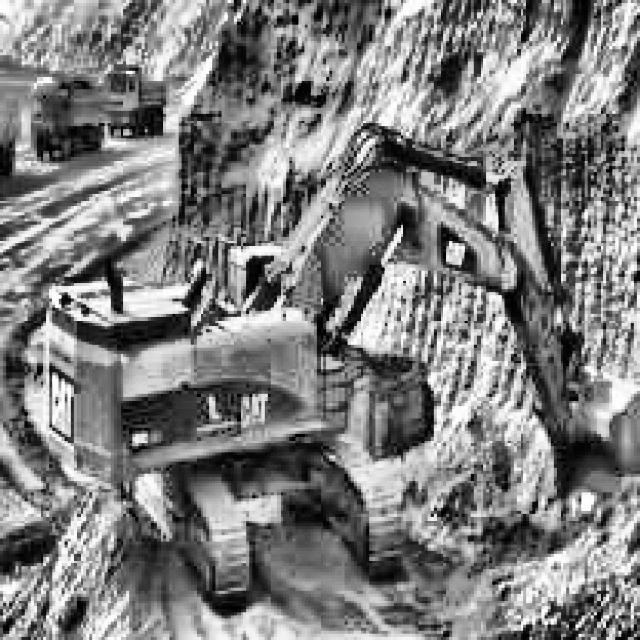dump_truck: (343, 340, 439, 475), (29, 74, 106, 160), (109, 60, 171, 146), (0, 92, 18, 184)
excavator: (40, 117, 640, 625)
